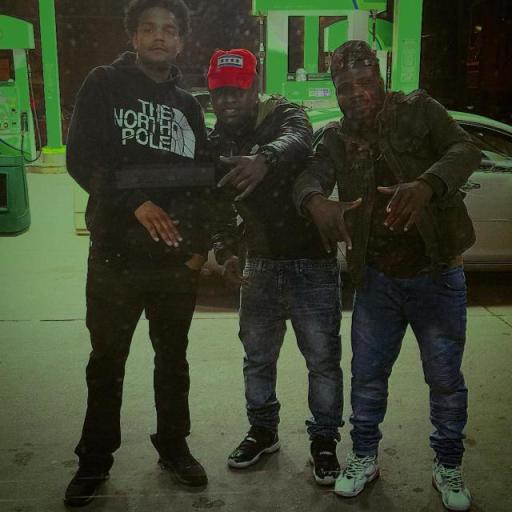The North Face: (168, 97, 198, 162)
